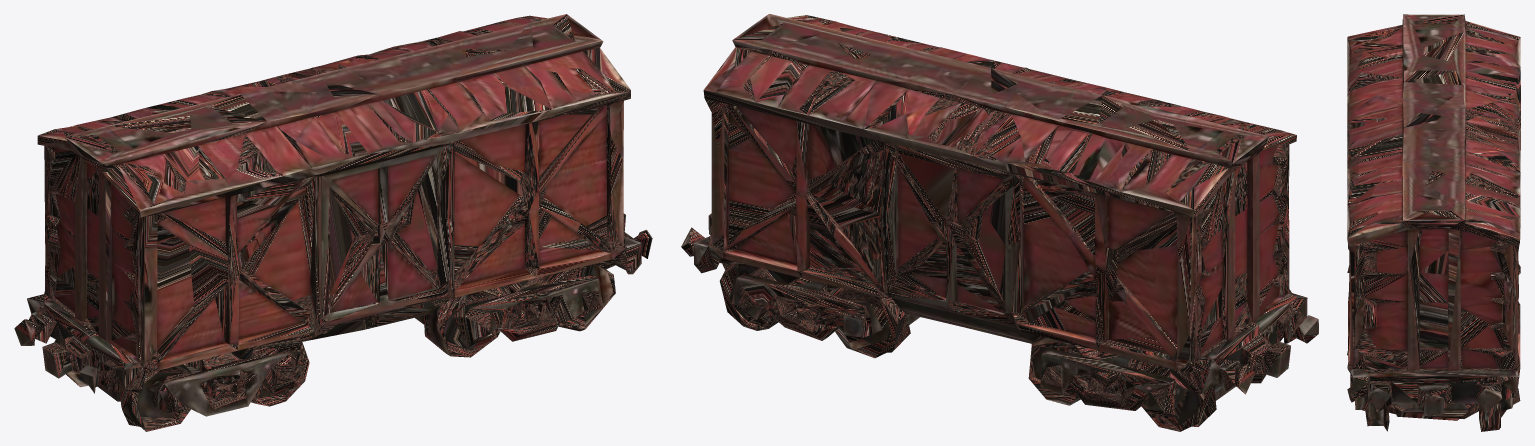
Rendered from rail_box.glb.
The picture shows the model from 3 angles, left to right: view 1: azimuth 30°, elevation 25°; view 2: azimuth 150°, elevation 25°; view 3: azimuth 270°, elevation 25°; orthographic projection. The views are drawn at different scales.
Visible parts, largest first — view 1: normalize; view 2: normalize; view 3: normalize.
Boxes of the visible parts, x1,y1,x2,y2 form: normalize: (14, 14, 652, 431); normalize: (681, 14, 1318, 431); normalize: (1347, 14, 1520, 431).
Size of the model in its own units: 1 by 0.4477 by 0.3116.
Materials: 1 (1 with a texture image).
